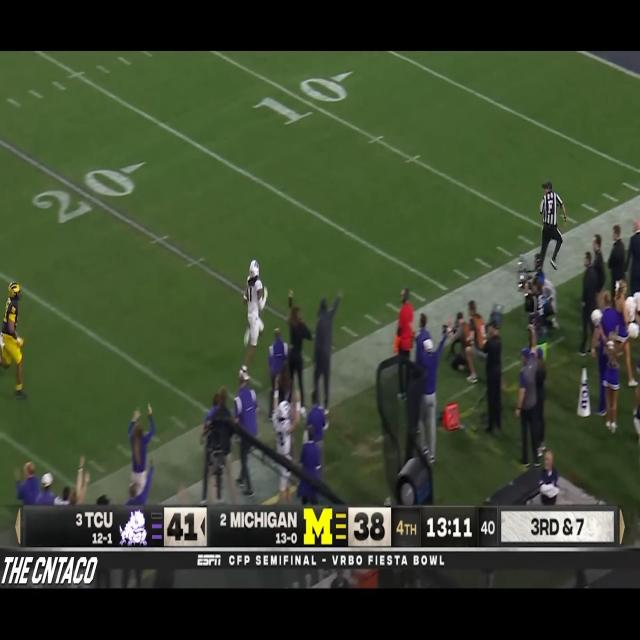players: (0, 271, 32, 407), (242, 248, 270, 374)
